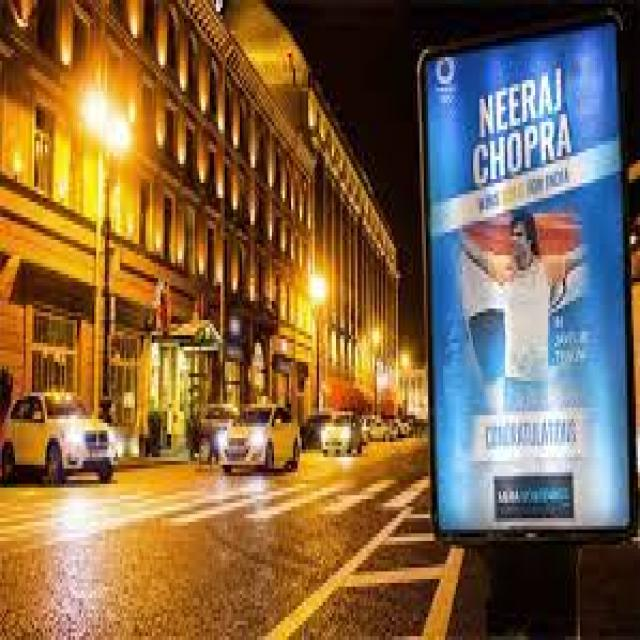Werbetafel frei: (418, 30, 634, 531)
